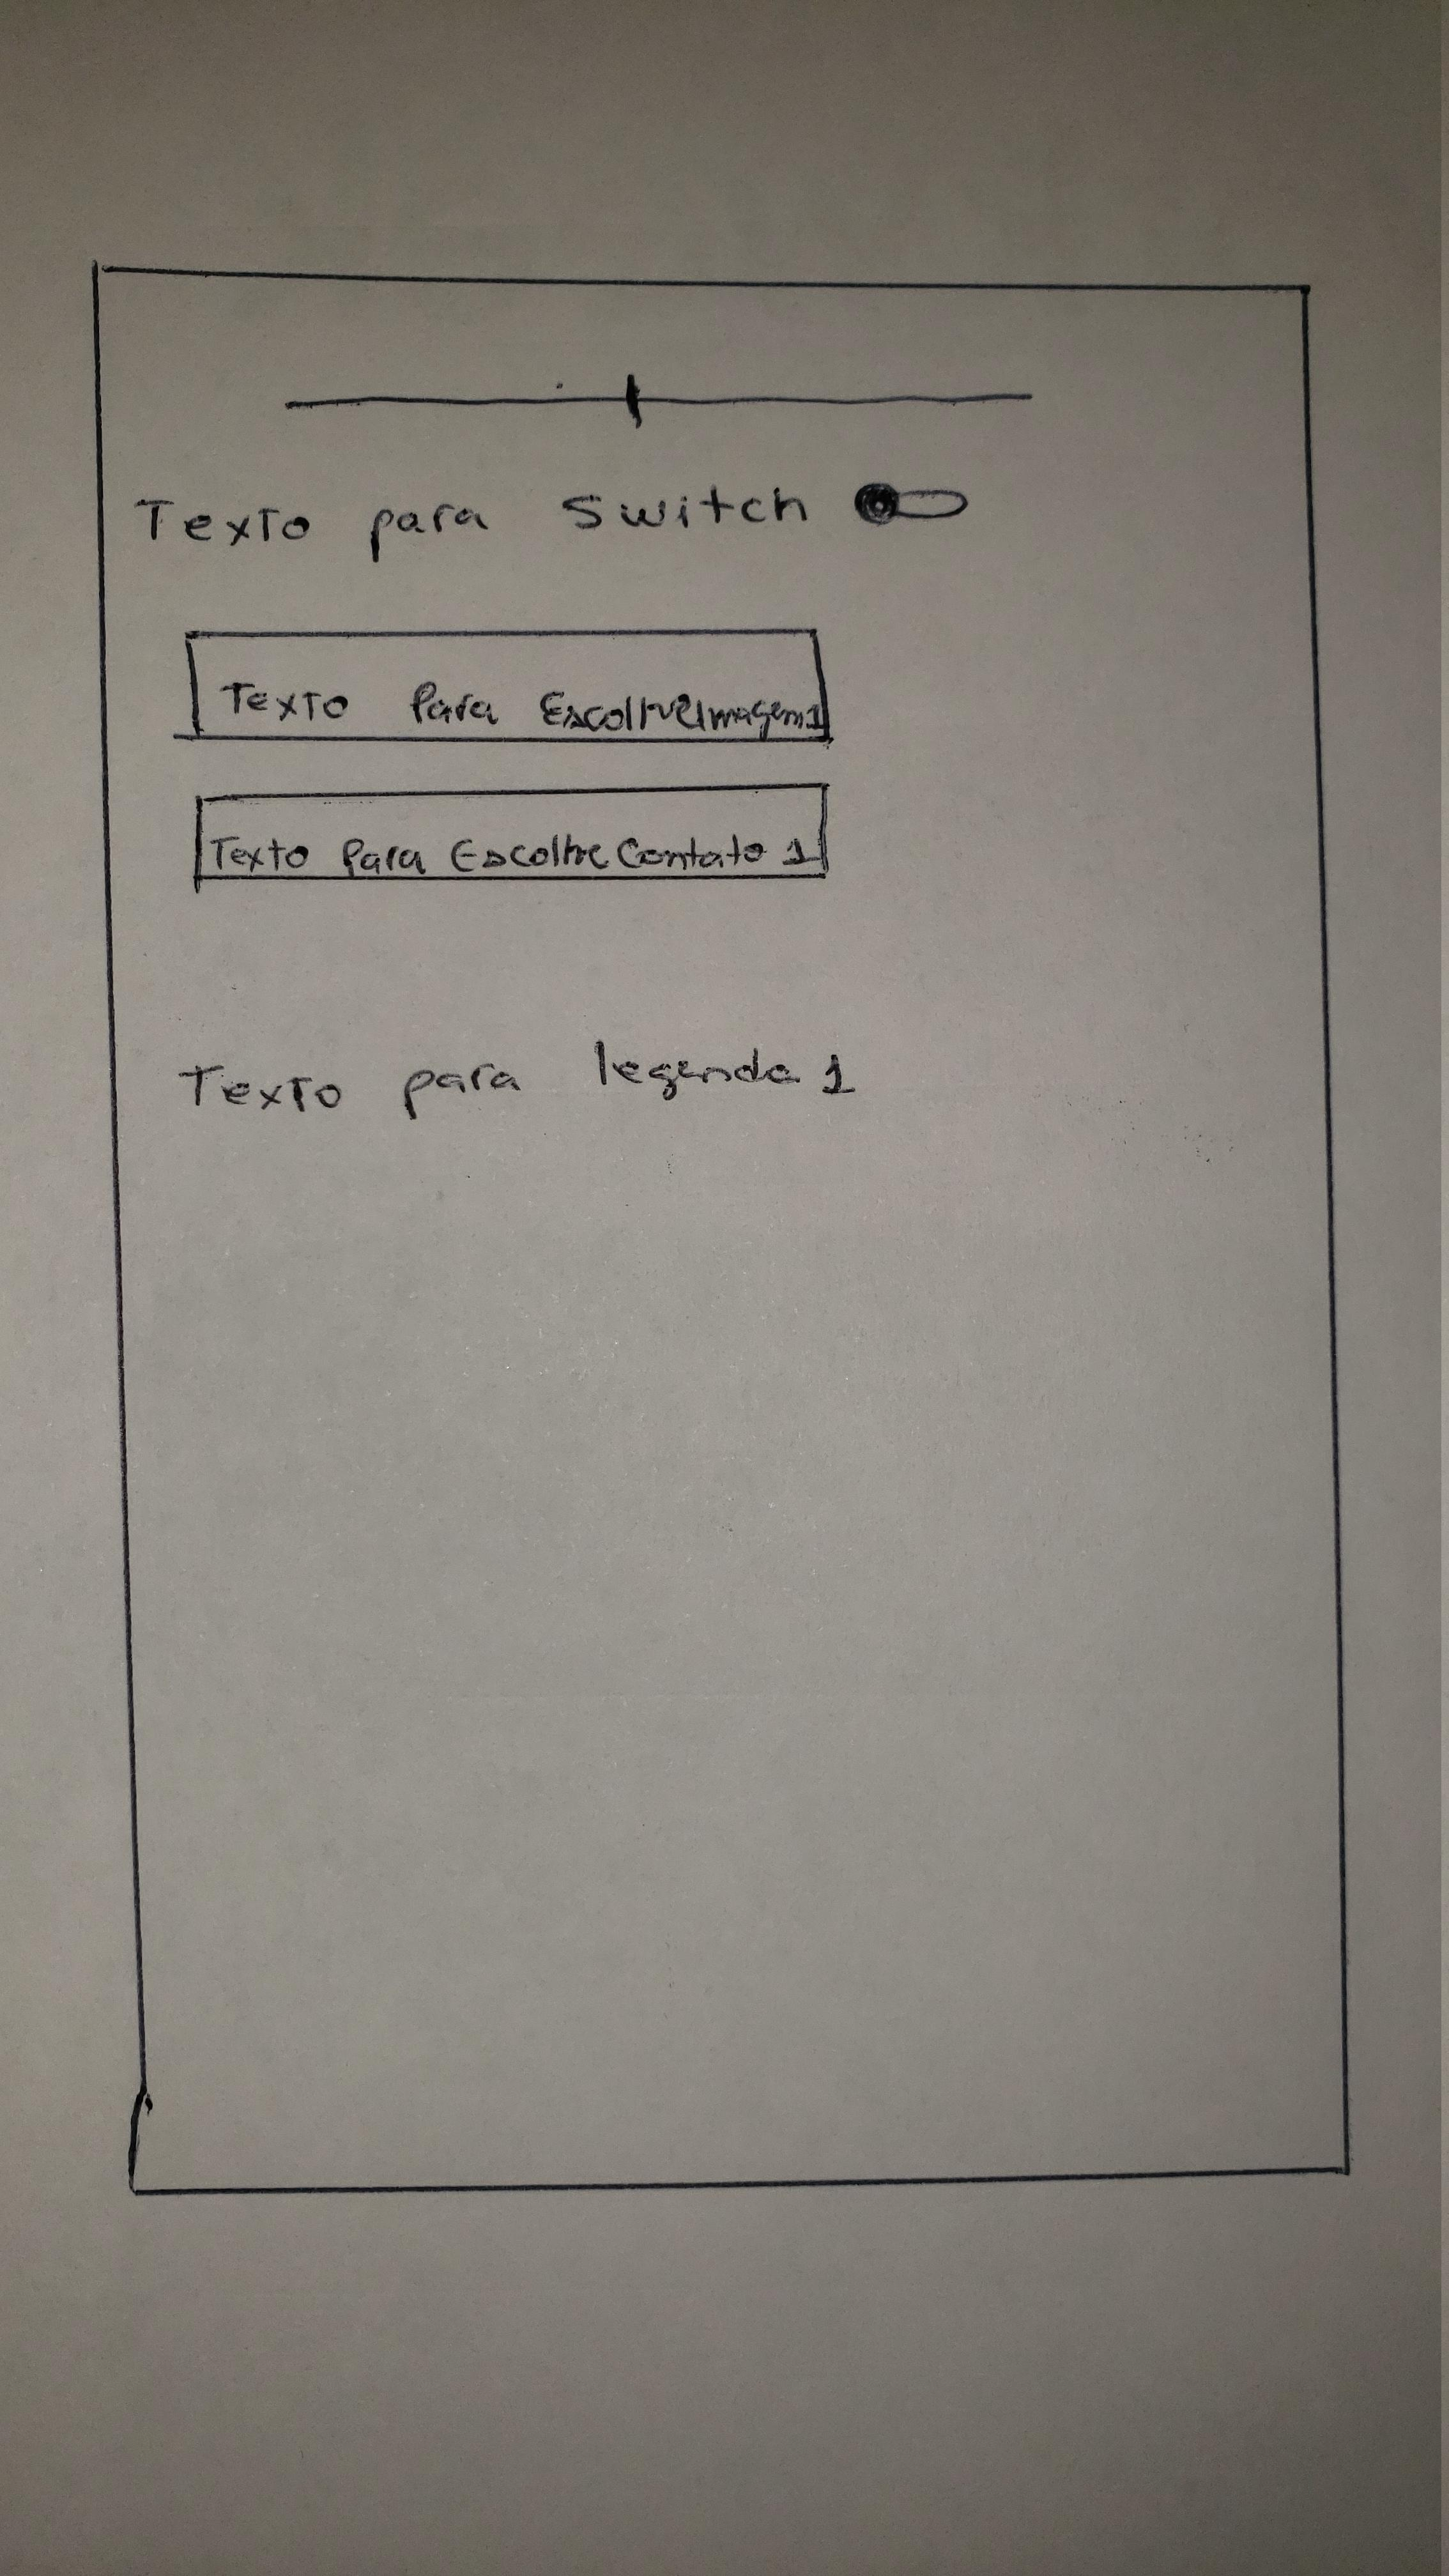Button: (189, 625, 830, 743), (193, 782, 830, 883)
Label: (179, 1037, 860, 1111)
Screen: (90, 257, 1350, 2196)
Slider: (283, 370, 1037, 428)
Switch: (133, 481, 970, 548)
